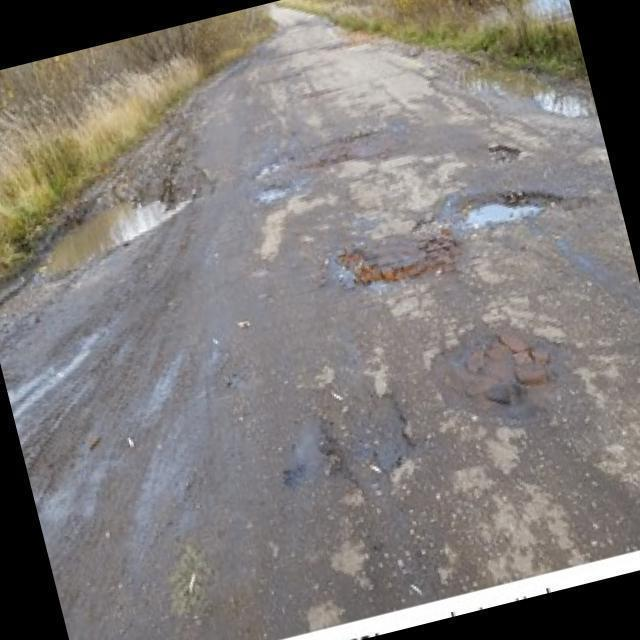pothole: (423, 308, 582, 429), (328, 212, 466, 302), (316, 367, 417, 485), (460, 181, 565, 231), (487, 136, 523, 167), (255, 180, 293, 203)
